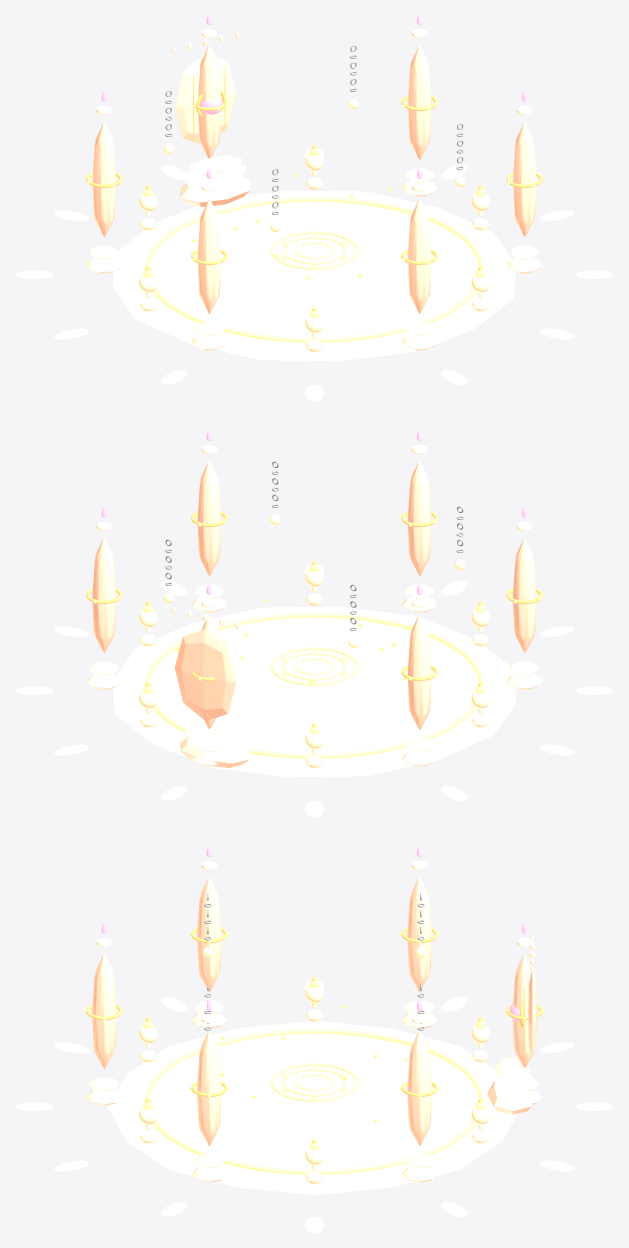
File: boss_sanctum_r2_v3.glb
3 views of the same model, one above another, from view 1: azimuth 30°, elevation 25°; view 2: azimuth 150°, elevation 25°; view 3: azimuth 270°, elevation 25° (orthographic).
Parts seen in each view (by area): view 1: inner_ring, floor, inner_trim, th_back, plat_b1, pillar_3_shaft, pillar_4_shaft, pillar_0_shaft, pillar_5_shaft, pillar_2_shaft, plat_b3, pillar_1_shaft (+5 smaller); view 2: inner_ring, floor, th_back, inner_trim, plat_b1, pillar_2_shaft, pillar_0_shaft, pillar_5_shaft, pillar_3_shaft, pillar_4_shaft, plat_b3, plat_b2 (+4 smaller); view 3: inner_ring, floor, inner_trim, pillar_0_shaft, pillar_5_shaft, pillar_4_shaft, plat_b1, pillar_2_shaft, pillar_3_shaft, plat_b3, plat_b2, pillar_1_shaft (+4 smaller).
Boxes of the visible parts, x1,y1,x2,y2 form: inner_ring: [157, 205, 471, 337]; floor: [112, 190, 515, 361]; inner_trim: [145, 197, 483, 342]; th_back: [175, 55, 236, 143]; plat_b1: [246, 242, 382, 292]; pillar_3_shaft: [197, 198, 221, 313]; pillar_4_shaft: [407, 198, 431, 313]; pillar_0_shaft: [407, 44, 431, 159]; pillar_5_shaft: [512, 121, 536, 236]; pillar_2_shaft: [92, 121, 116, 236]; plat_b3: [269, 234, 359, 271]; pillar_1_shaft: [198, 44, 220, 158]; inner_ring: [157, 621, 471, 753]; floor: [113, 606, 516, 777]; th_back: [175, 629, 236, 720]; inner_trim: [145, 613, 483, 758]; plat_b1: [246, 658, 382, 708]; pillar_2_shaft: [407, 614, 431, 729]; pillar_0_shaft: [92, 537, 116, 652]; pillar_5_shaft: [197, 460, 221, 575]; pillar_3_shaft: [512, 537, 536, 652]; pillar_4_shaft: [407, 460, 431, 575]; plat_b3: [269, 650, 359, 687]; plat_b2: [257, 654, 371, 696]; inner_ring: [157, 1037, 471, 1169]; floor: [108, 1021, 517, 1195]; inner_trim: [145, 1029, 483, 1174]; pillar_0_shaft: [407, 1030, 431, 1145]; pillar_5_shaft: [197, 1030, 221, 1145]; pillar_4_shaft: [92, 953, 116, 1068]; plat_b1: [246, 1074, 382, 1124]; pillar_2_shaft: [407, 876, 431, 991]; pillar_3_shaft: [197, 876, 221, 991]; plat_b3: [269, 1066, 359, 1103]; plat_b2: [257, 1070, 371, 1112]; pillar_1_shaft: [512, 953, 534, 1067].
Bounding box in the file's own units: 19.73 × 6.82 × 19.73.
